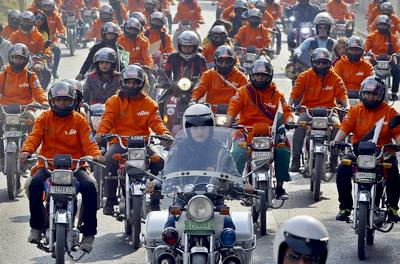With Helmet: (180, 102, 218, 146), (118, 59, 152, 99), (356, 73, 391, 110), (46, 80, 79, 118), (172, 28, 204, 62), (246, 57, 278, 90), (5, 39, 34, 73), (306, 47, 336, 76), (98, 20, 121, 46)
